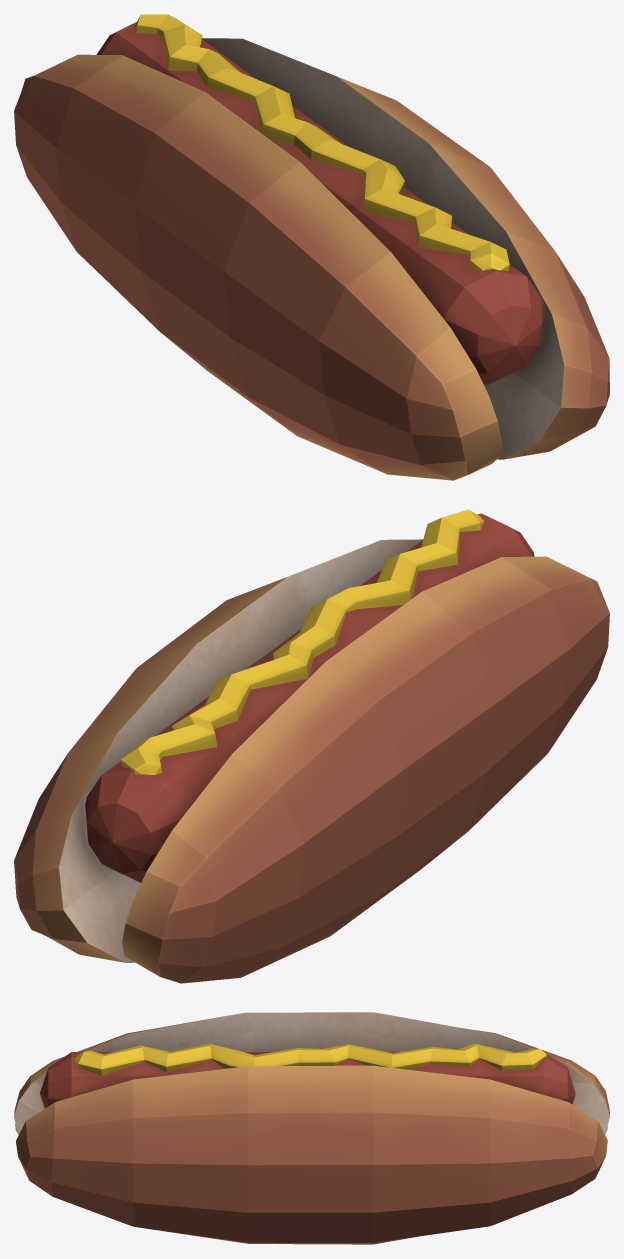
The model's file is f80ddd18-efd5-4180-b1a9-fd3d13c45980.glb.
3 views of the same model, one above another, from view 1: azimuth 30°, elevation 25°; view 2: azimuth 150°, elevation 25°; view 3: azimuth 270°, elevation 25° (orthographic). The views are drawn at different scales.
Parts seen in each view (by area): view 1: Hotdog_Mesh; view 2: Hotdog_Mesh; view 3: Hotdog_Mesh.
Part boxes in pixels (x1=…): Hotdog_Mesh: x1=14, y1=14, x2=609, y2=480; Hotdog_Mesh: x1=14, y1=509, x2=609, y2=983; Hotdog_Mesh: x1=14, y1=1012, x2=609, y2=1244.
Bounding box in the file's own units: 4.41 × 3.97 × 11.32.
Materials: 1 (1 with a texture image).
